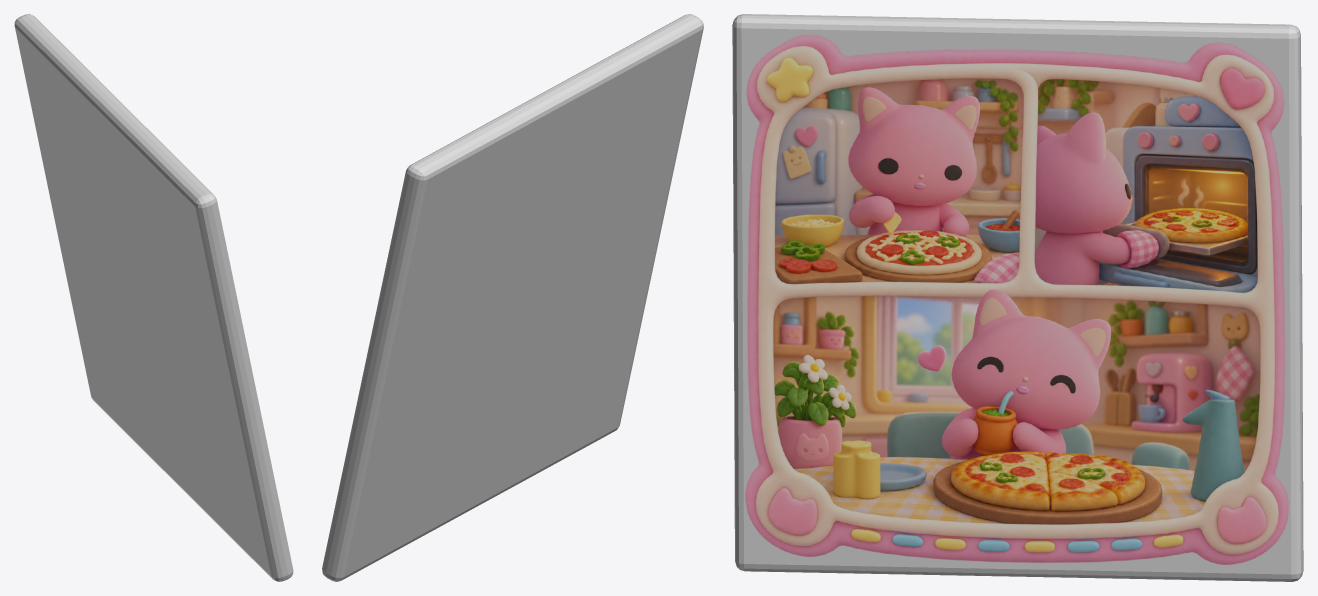
Rendered from memory_2.glb.
The picture shows the model from 3 angles, left to right: view 1: azimuth 30°, elevation 25°; view 2: azimuth 150°, elevation 25°; view 3: azimuth 270°, elevation 25°; orthographic projection. The views are drawn at different scales.
Parts seen in each view (by area): view 1: memory_2_page; view 2: memory_2_page; view 3: memory_2_page.
Part boxes in pixels (x1,y1,x2,y2): memory_2_page: [14, 14, 293, 581]; memory_2_page: [322, 14, 703, 581]; memory_2_page: [732, 14, 1303, 581].
Size of what is drawn, in the model's own units: 0.2756 by 0.8052 by 0.8004.
Materials: 2 (1 with a texture image).
